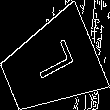L_SW: (25, 41, 77, 90)
